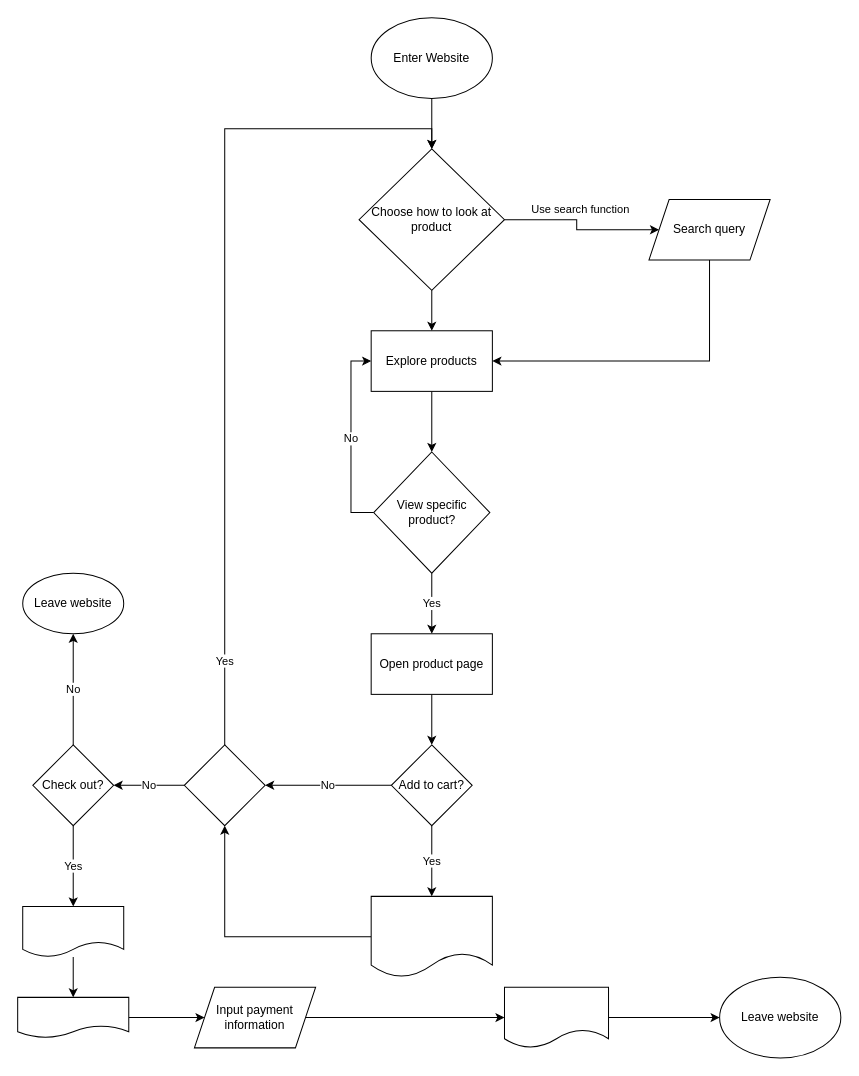
Image size: 859x1076. Some labels were removed from this diagram. Each missing label, with the centre of its shape:
Confirmation page: point (431, 936)
Continue shopping?: point (224, 785)
Order confirmation screen and email sent: point (556, 1017)
View cart screen: point (73, 931)
View payment screen: point (73, 1017)
